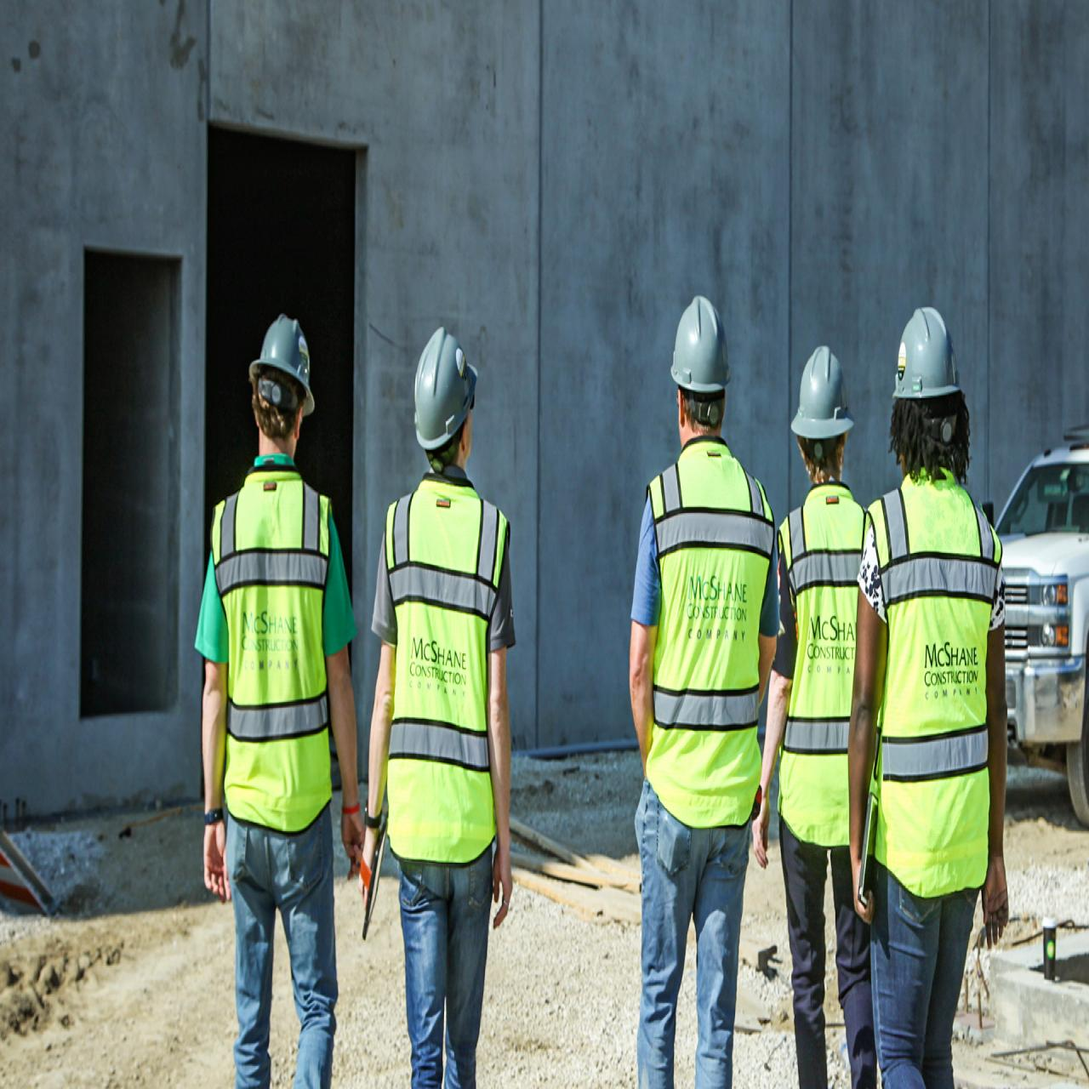Person: (194, 288, 365, 1089), (850, 269, 1017, 1089), (624, 290, 781, 1089), (362, 302, 521, 1089), (756, 311, 888, 1089)
Safety_Vest: (377, 476, 515, 878), (869, 464, 992, 904), (643, 442, 768, 844), (208, 476, 337, 839), (779, 476, 867, 841)
